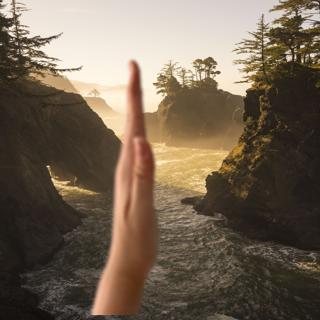Right: (94, 55, 182, 305)
